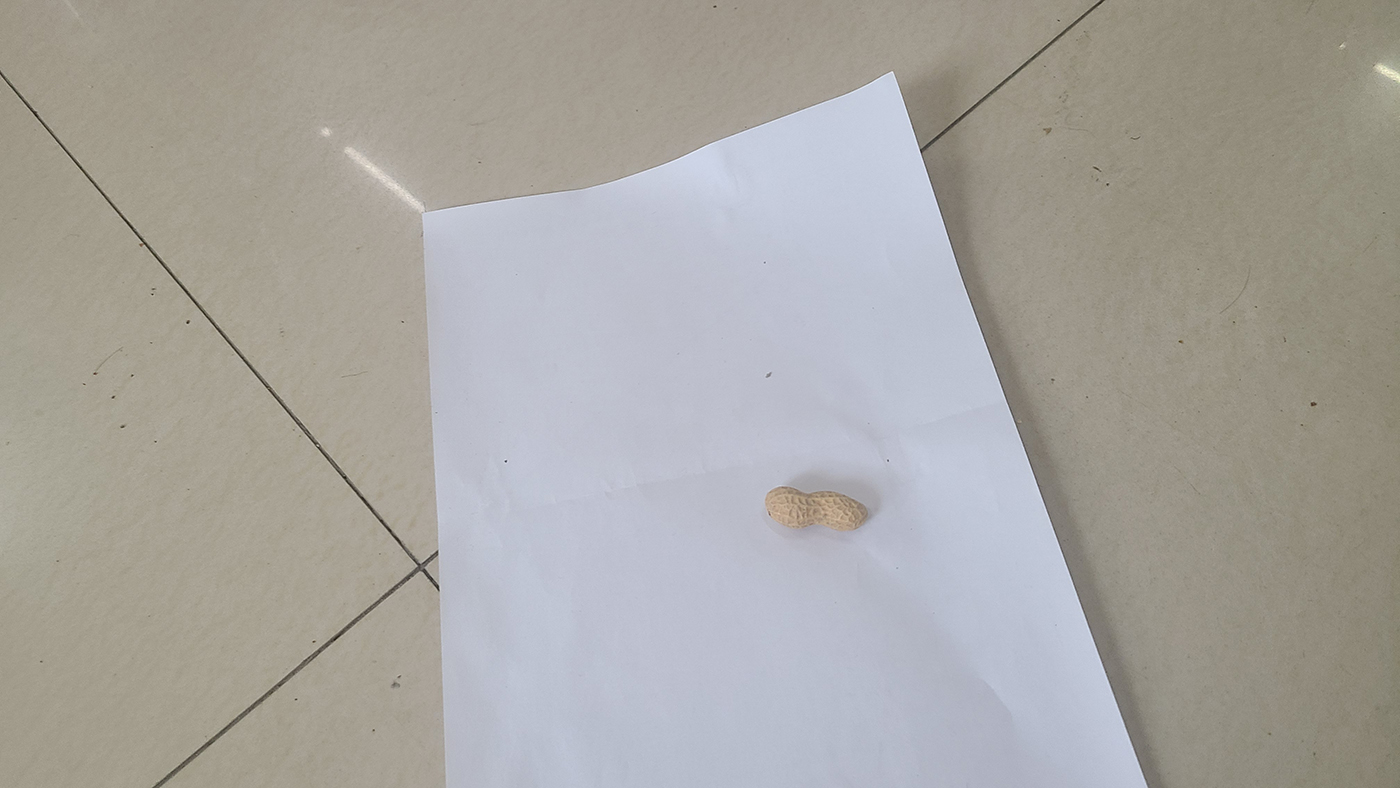h: (764, 486, 868, 531)
